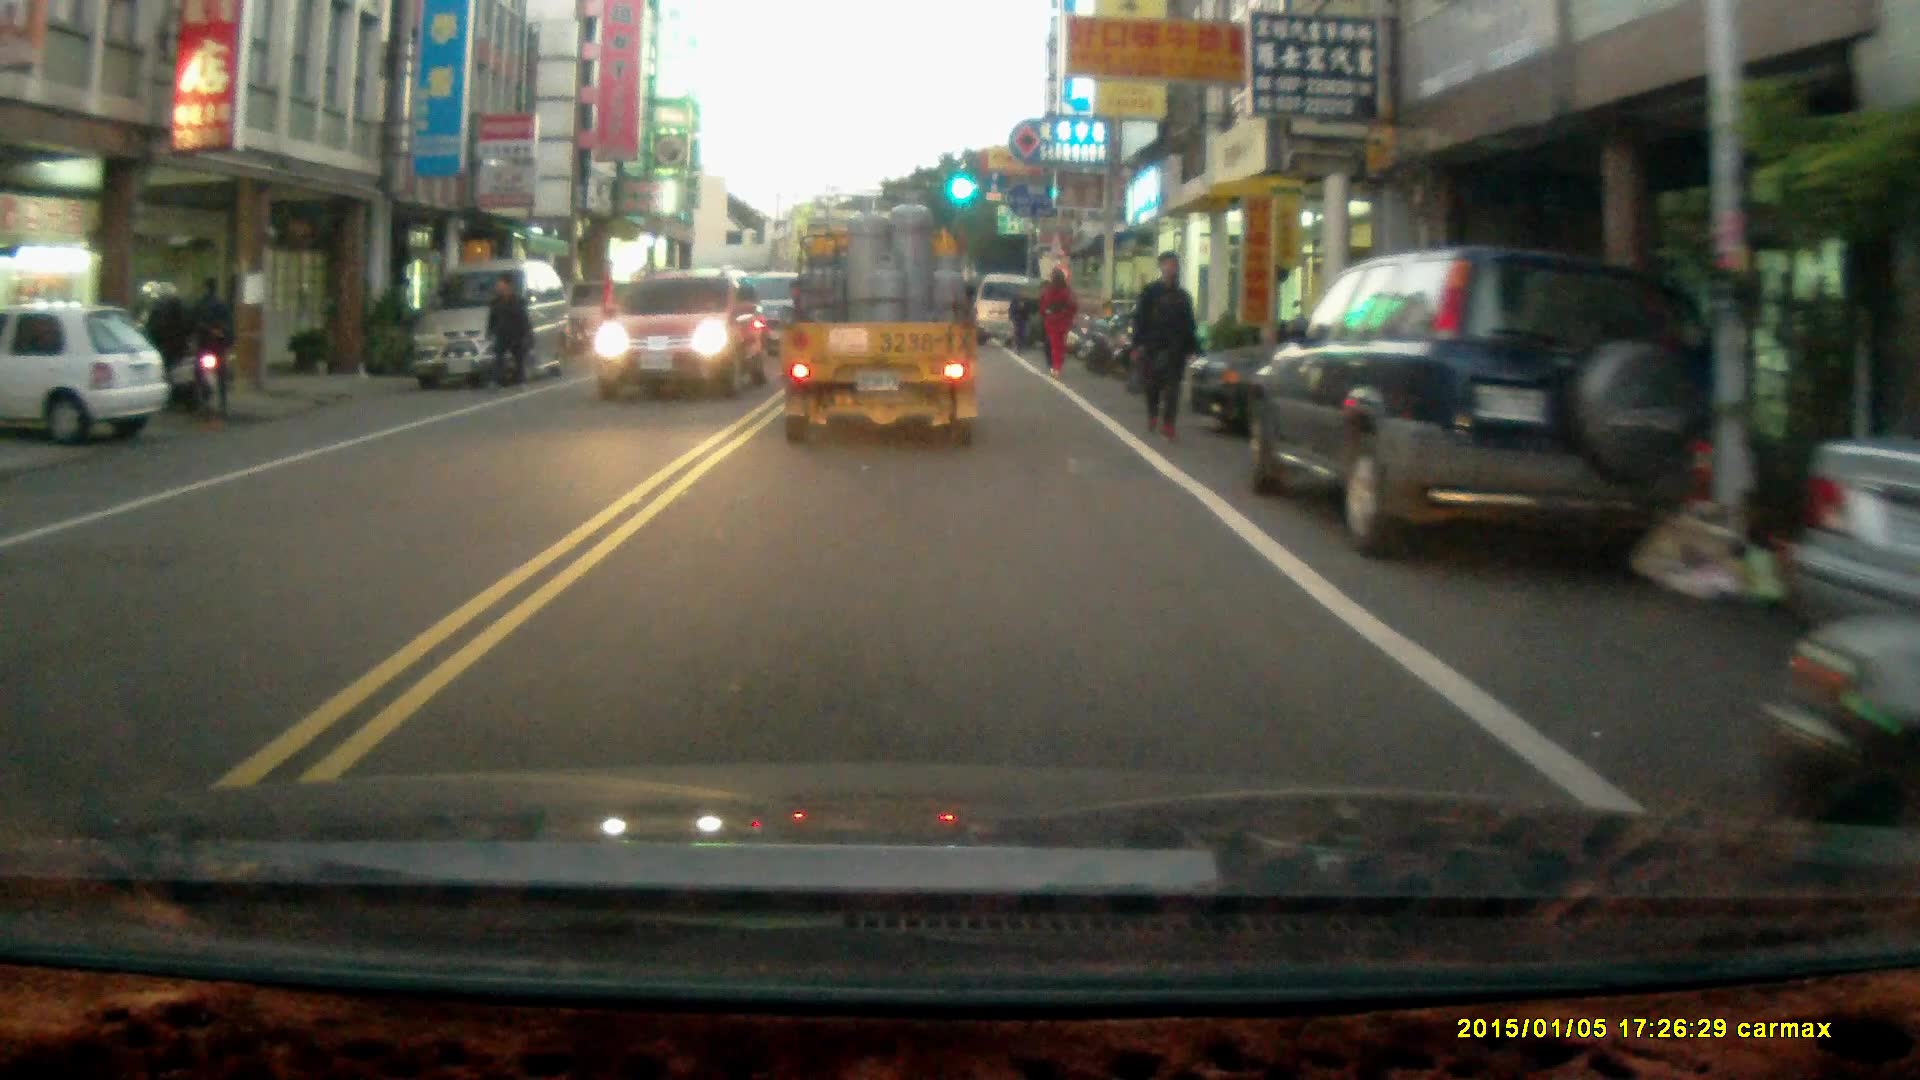pedestrian: (1127, 248, 1200, 443), (186, 273, 234, 418), (480, 269, 530, 396), (1038, 261, 1075, 377), (1006, 282, 1036, 353)
rider: (121, 277, 218, 416)
vehicle: (1246, 241, 1708, 565), (773, 192, 981, 457), (1, 309, 178, 454), (410, 262, 580, 389), (596, 272, 760, 399), (984, 270, 1044, 352)
